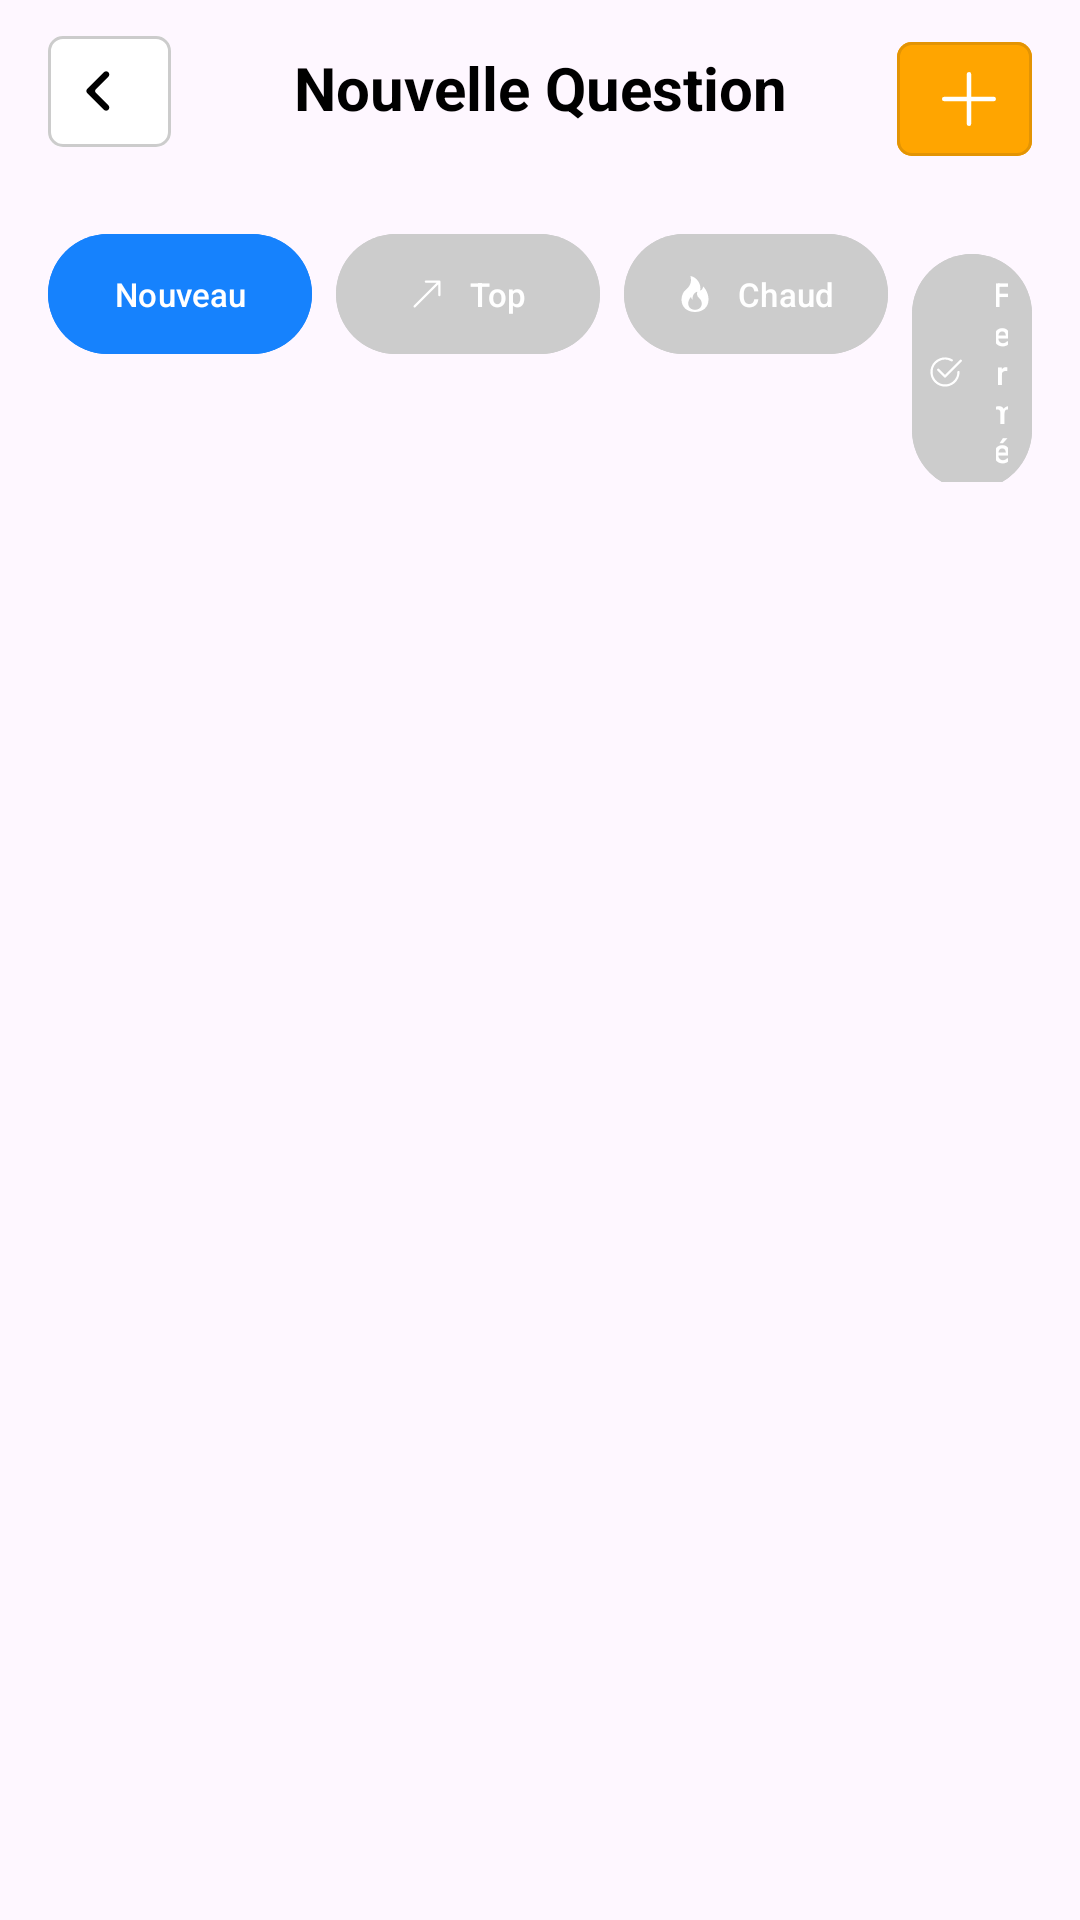

Icons on this 1080 × 1920 Android screen, each with its box as [left=x1, top=y1, right=x2, bottom=y2]:
add: [left=897, top=42, right=1032, bottom=156]
chevron left: [left=48, top=36, right=171, bottom=147]
